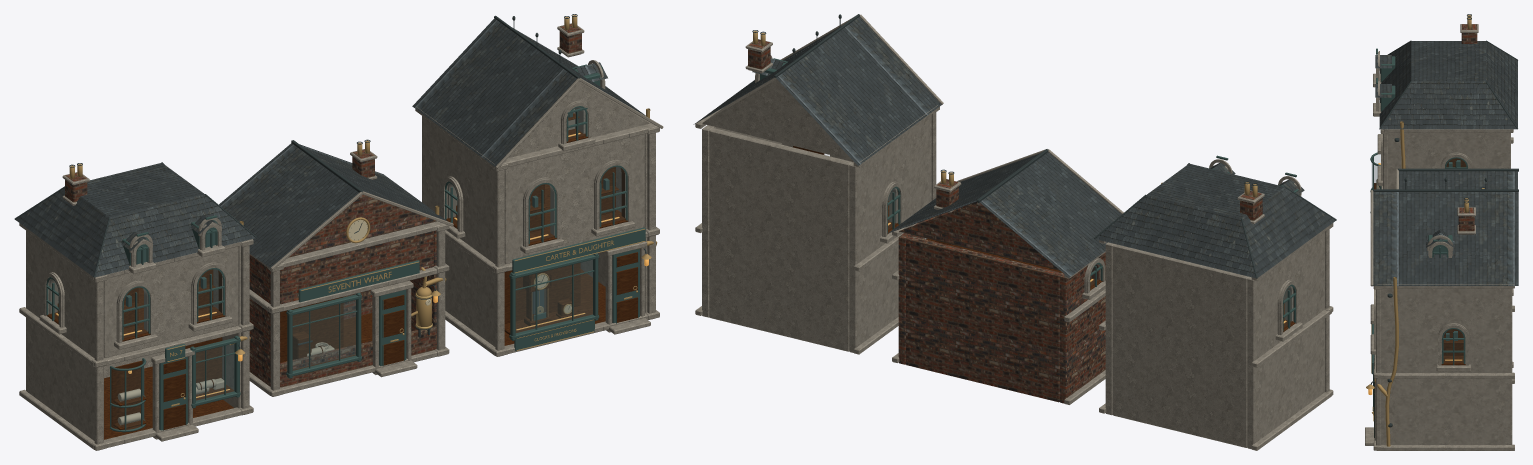
File: wharf-v1.glb
3 views of the same model, side by side, from view 1: azimuth 30°, elevation 25°; view 2: azimuth 150°, elevation 25°; view 3: azimuth 270°, elevation 25° (orthographic). The views are drawn at different scales.
Parts seen in each view (by area): view 1: Wharf_Structure_Limestone trim, Wharf_Structure_Walnut end grain, Wharf_Structure_Oxidised green joinery, Wharf_Structure_Recessed blue green glass, Wharf_Sailmaker_Roof_Real slate roof, Wharf_Structure_Warm weathered brick, Wharf_Clockshop_Roof_Real slate roof, Wharf_Warehouse_Roof_Real slate roof, Wharf_Structure_Aged satin brass, Wharf_Sailmaker_Roof_Limestone trim, Wharf_Clockshop_Roof_Limestone trim, Wharf_Warehouse_Roof_Limestone trim (+2 smaller); view 2: Wharf_Structure_Limestone trim, Wharf_Structure_Warm weathered brick, Wharf_Sailmaker_Roof_Real slate roof, Wharf_Clockshop_Roof_Real slate roof, Wharf_Warehouse_Roof_Real slate roof, Wharf_Clockshop_Roof_Limestone trim, Wharf_Structure_Oxidised green joinery, Wharf_Warehouse_Roof_Limestone trim, Wharf_Structure_Walnut end grain; view 3: Wharf_Structure_Limestone trim, Wharf_Clockshop_Roof_Real slate roof, Wharf_Sailmaker_Roof_Real slate roof, Wharf_Warehouse_Roof_Real slate roof, Wharf_Structure_Aged satin brass, Wharf_Clockshop_Roof_Limestone trim, Wharf_Structure_Oxidised green joinery, Wharf_Structure_Walnut end grain, Wharf_Structure_Recessed blue green glass, Wharf_Clockshop_Roof_Blackened cast iron, Wharf_Warehouse_Roof_Blackened cast iron, Wharf_Sailmaker_Roof_Oxidised green joinery (+5 smaller).
Boxes of the visible parts, box(x1,y1,x2,y2) form: Wharf_Structure_Limestone trim: box(19, 81, 659, 450); Wharf_Structure_Walnut end grain: box(46, 113, 637, 439); Wharf_Structure_Oxidised green joinery: box(46, 106, 645, 432); Wharf_Structure_Recessed blue green glass: box(50, 108, 624, 429); Wharf_Sailmaker_Roof_Real slate roof: box(15, 163, 255, 277); Wharf_Structure_Warm weathered brick: box(249, 195, 436, 387); Wharf_Clockshop_Roof_Real slate roof: box(412, 18, 645, 166); Wharf_Warehouse_Roof_Real slate roof: box(219, 143, 447, 268); Wharf_Structure_Aged satin brass: box(167, 108, 657, 406); Wharf_Sailmaker_Roof_Limestone trim: box(62, 172, 224, 273); Wharf_Clockshop_Roof_Limestone trim: box(495, 23, 663, 168); Wharf_Warehouse_Roof_Limestone trim: box(270, 149, 453, 270); Wharf_Structure_Limestone trim: box(695, 77, 1333, 450); Wharf_Structure_Warm weathered brick: box(898, 202, 1105, 403); Wharf_Sailmaker_Roof_Real slate roof: box(1095, 162, 1335, 278); Wharf_Clockshop_Roof_Real slate roof: box(693, 17, 941, 165); Wharf_Warehouse_Roof_Real slate roof: box(888, 152, 1121, 277); Wharf_Clockshop_Roof_Limestone trim: box(745, 14, 943, 104); Wharf_Structure_Oxidised green joinery: box(887, 186, 1296, 331); Wharf_Warehouse_Roof_Limestone trim: box(934, 149, 1123, 213); Wharf_Structure_Walnut end grain: box(793, 146, 1295, 332); Wharf_Structure_Limestone trim: box(1365, 129, 1514, 450); Wharf_Clockshop_Roof_Real slate roof: box(1373, 192, 1518, 285); Wharf_Sailmaker_Roof_Real slate roof: box(1375, 41, 1517, 129); Wharf_Warehouse_Roof_Real slate roof: box(1399, 171, 1517, 189); Wharf_Structure_Aged satin brass: box(1366, 121, 1405, 446); Wharf_Clockshop_Roof_Limestone trim: box(1370, 190, 1475, 286); Wharf_Structure_Oxidised green joinery: box(1370, 152, 1467, 437); Wharf_Structure_Walnut end grain: box(1374, 158, 1466, 437); Wharf_Structure_Recessed blue green glass: box(1372, 155, 1465, 361); Wharf_Clockshop_Roof_Blackened cast iron: box(1373, 178, 1518, 203); Wharf_Warehouse_Roof_Blackened cast iron: box(1397, 168, 1518, 189); Wharf_Sailmaker_Roof_Oxidised green joinery: box(1376, 48, 1395, 111).
Size of the model in its own units: 20.56 by 9.63 by 5.57.
Materials: 13 (4 with a texture image).
